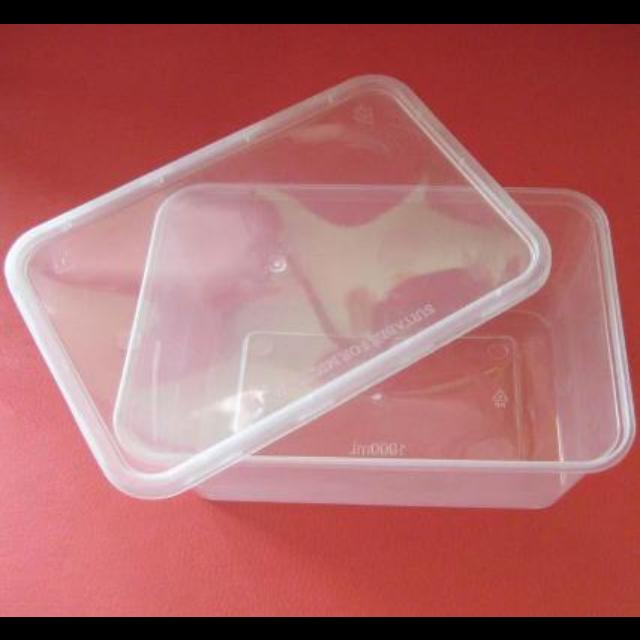plastic_box: (3, 73, 637, 509)
